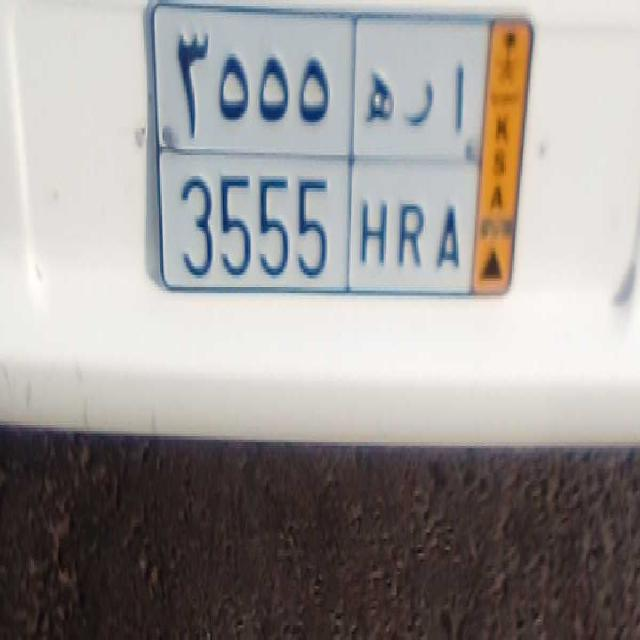license_plate: (159, 149, 476, 297)
